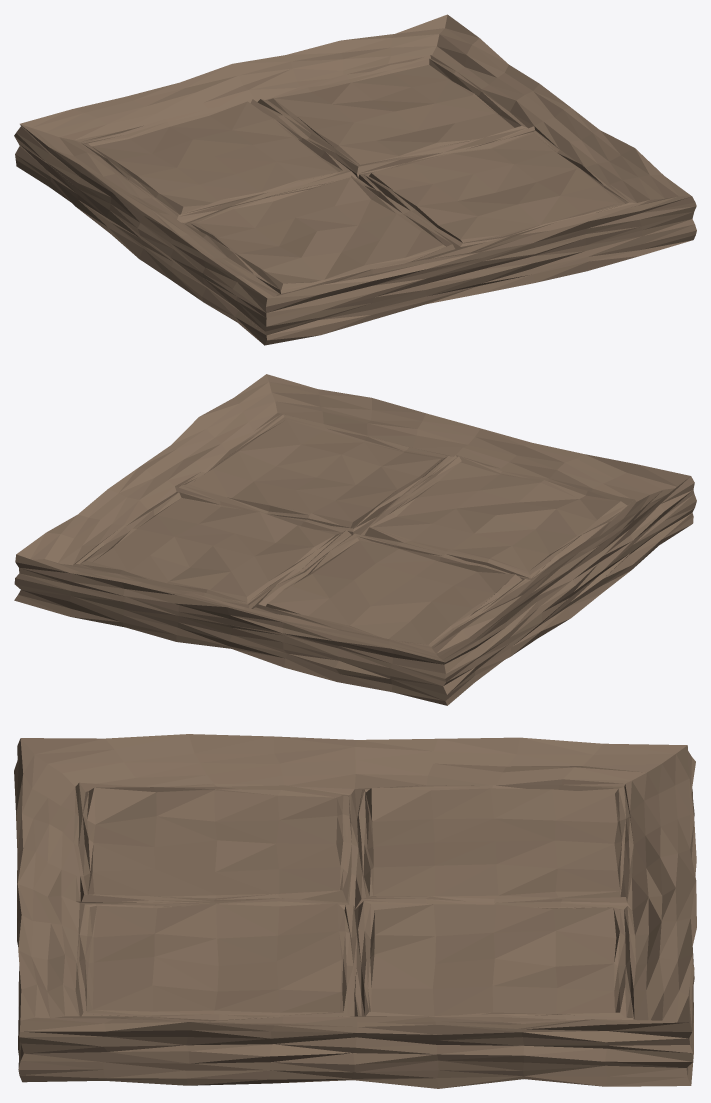
Rendered from SM_PressurePlate.fbx.
3 renders of one model, top to bottom at view 1: azimuth 30°, elevation 25°; view 2: azimuth 150°, elevation 25°; view 3: azimuth 270°, elevation 25°, orthographic. The views are drawn at different scales.
Visible parts, largest first — view 1: SM_PressurePlate; view 2: SM_PressurePlate; view 3: SM_PressurePlate.
Boxes of the visible parts, box(x1,y1,x2,y2) form: SM_PressurePlate: box(14, 14, 696, 345); SM_PressurePlate: box(14, 374, 696, 705); SM_PressurePlate: box(14, 734, 696, 1088).
Size of the model in its own units: 1.23 by 0.1391 by 1.22.
